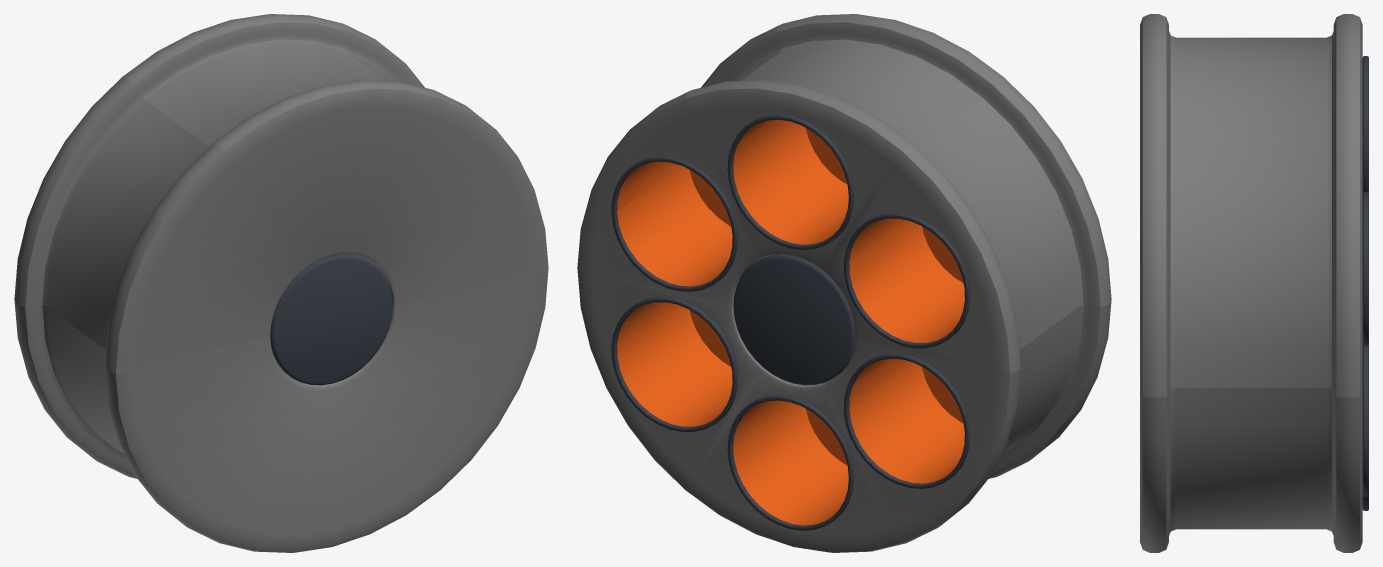
The model's file is main_model.fbx.
The picture shows the model from 3 angles, left to right: view 1: azimuth 30°, elevation 25°; view 2: azimuth 150°, elevation 25°; view 3: azimuth 270°, elevation 25°; orthographic projection. The views are drawn at different scales.
Visible parts, largest first — view 1: 2, 1, 3, 6, 4, 5, base; view 2: 2, 1, 3, 6, 4, 5, base; view 3: 6, 5, 1.
Part boxes in pixels (left/top/right/bottom): 2: left=14, top=76, right=300, bottom=373; 1: left=123, top=14, right=440, bottom=271; 3: left=14, top=300, right=301, bottom=543; 6: left=344, top=24, right=548, bottom=305; 4: left=130, top=368, right=440, bottom=552; 5: left=362, top=268, right=548, bottom=489; base: left=270, top=254, right=392, bottom=385; 2: left=825, top=76, right=1111, bottom=373; 1: left=685, top=14, right=1002, bottom=271; 3: left=824, top=300, right=1111, bottom=543; 6: left=577, top=24, right=781, bottom=305; 4: left=685, top=368, right=995, bottom=552; 5: left=577, top=268, right=763, bottom=489; base: left=733, top=254, right=855, bottom=385; 6: left=1140, top=128, right=1368, bottom=397; 5: left=1140, top=345, right=1368, bottom=552; 1: left=1140, top=14, right=1368, bottom=192.
Size of the model in its own units: 219 by 219 by 92.72.
